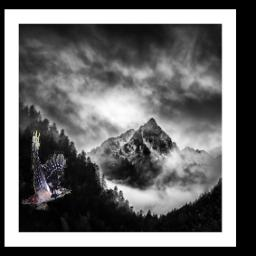Woodpecker: (23, 130, 72, 210)
